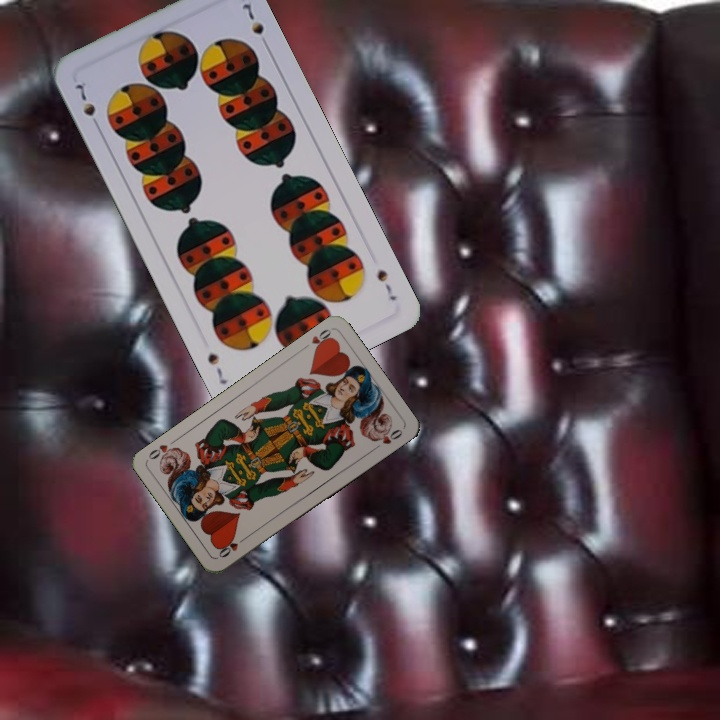HO: (298, 325, 336, 354), (214, 532, 250, 560)
S7: (72, 79, 103, 132), (373, 265, 400, 304)
